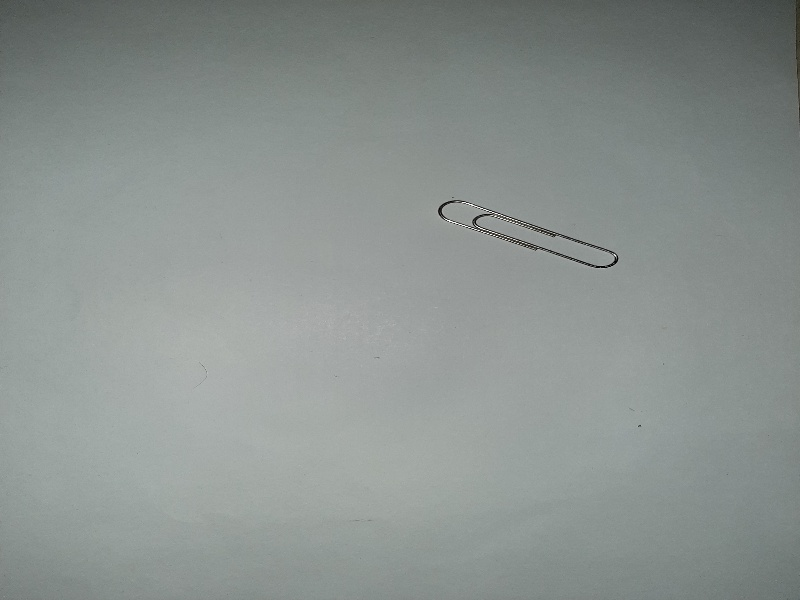Big Jumpclip: (432, 194, 624, 275)
